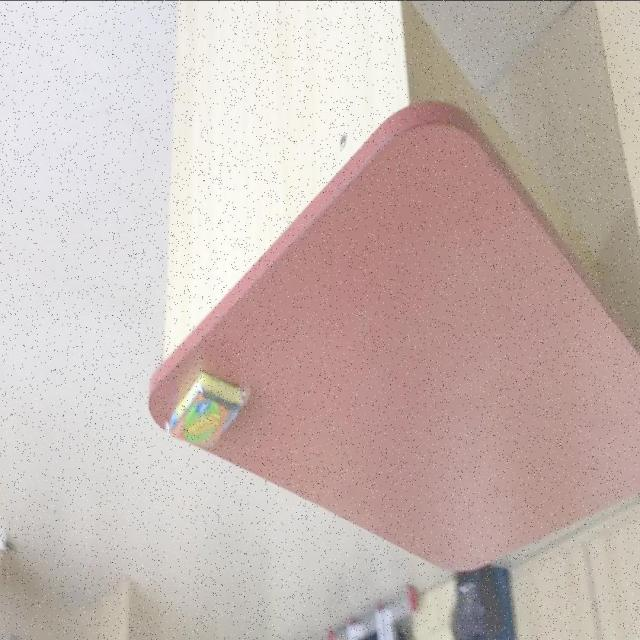Sponge: (146, 98, 640, 572), (165, 370, 248, 448)
